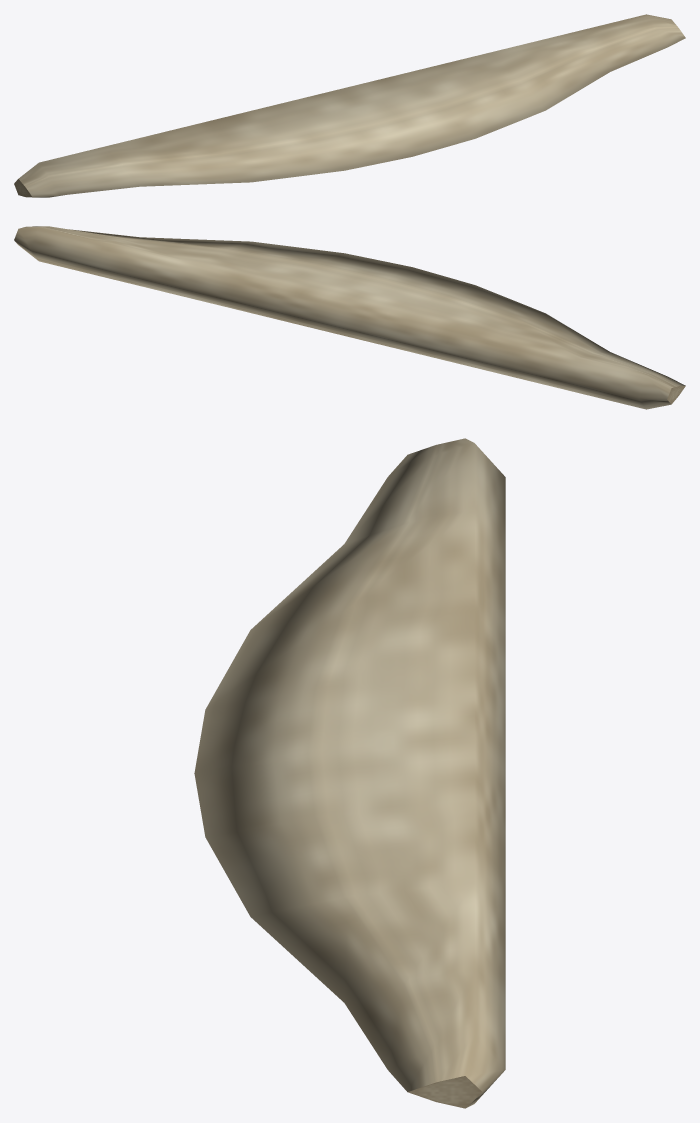
File: scraper_bone.glb
The picture shows the model from 3 angles, top to bottom: view 1: azimuth 30°, elevation 25°; view 2: azimuth 150°, elevation 25°; view 3: azimuth 270°, elevation 25°; orthographic projection. The views are drawn at different scales.
Parts seen in each view (by area): view 1: SCRAPER_BONE; view 2: SCRAPER_BONE; view 3: SCRAPER_BONE.
Boxes of the visible parts, box(x1,y1,x2,y2) form: SCRAPER_BONE: box(14, 14, 685, 197); SCRAPER_BONE: box(14, 226, 685, 409); SCRAPER_BONE: box(194, 438, 505, 1108).
Bounding box in the file's own units: 0.32 × 0.016 × 0.066.
1 material, 1 textured.
